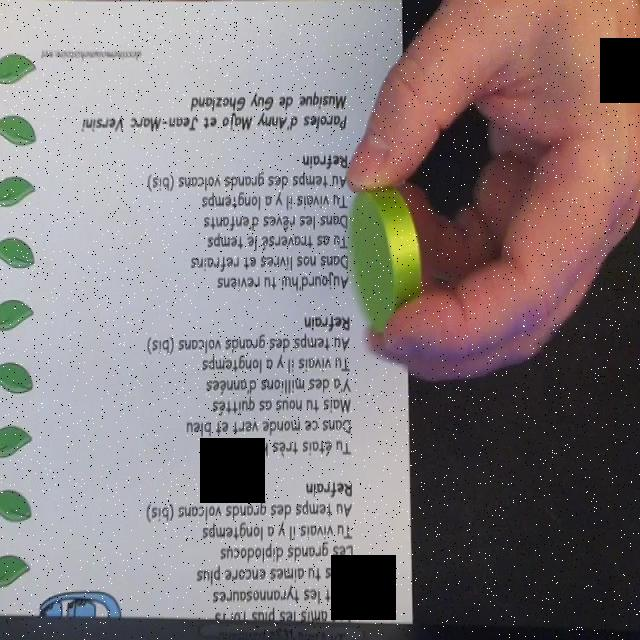round: (347, 181, 423, 336)
